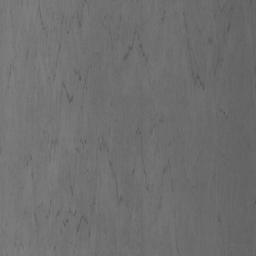Silk spot: (0, 0, 252, 256)
